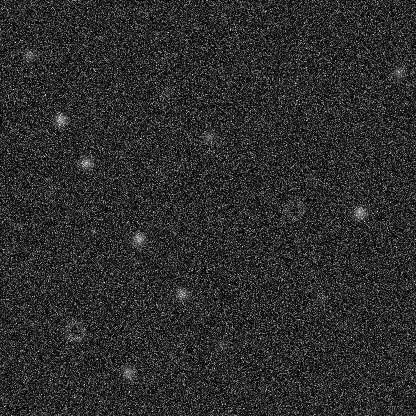Ring: (63, 318, 87, 342), (282, 197, 306, 221)
Spot: (42, 183, 58, 199), (173, 285, 189, 301), (390, 64, 406, 80), (305, 170, 321, 186), (314, 291, 330, 307), (158, 85, 174, 101), (214, 336, 230, 352), (200, 129, 216, 145), (21, 47, 37, 63), (120, 364, 136, 380), (351, 204, 367, 220), (78, 154, 94, 170), (52, 111, 68, 127), (130, 230, 146, 246)
